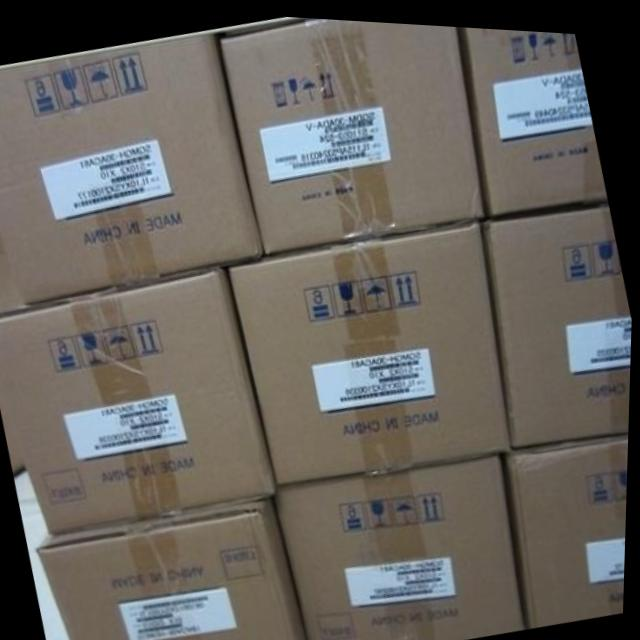box: (227, 212, 515, 480), (0, 261, 280, 534), (0, 31, 264, 306), (216, 15, 487, 252), (275, 447, 530, 640), (39, 493, 310, 640), (488, 194, 633, 441), (460, 21, 609, 213), (508, 425, 631, 620), (0, 389, 28, 477), (0, 229, 27, 315)
